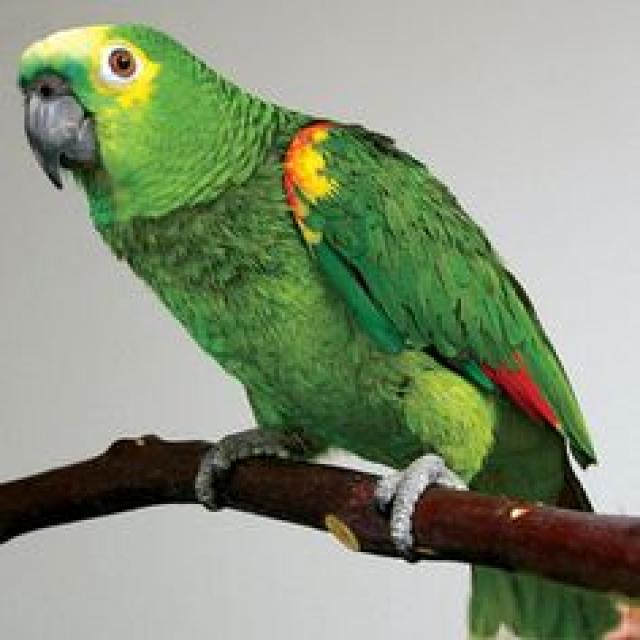Herbivorous: (19, 24, 599, 560)
